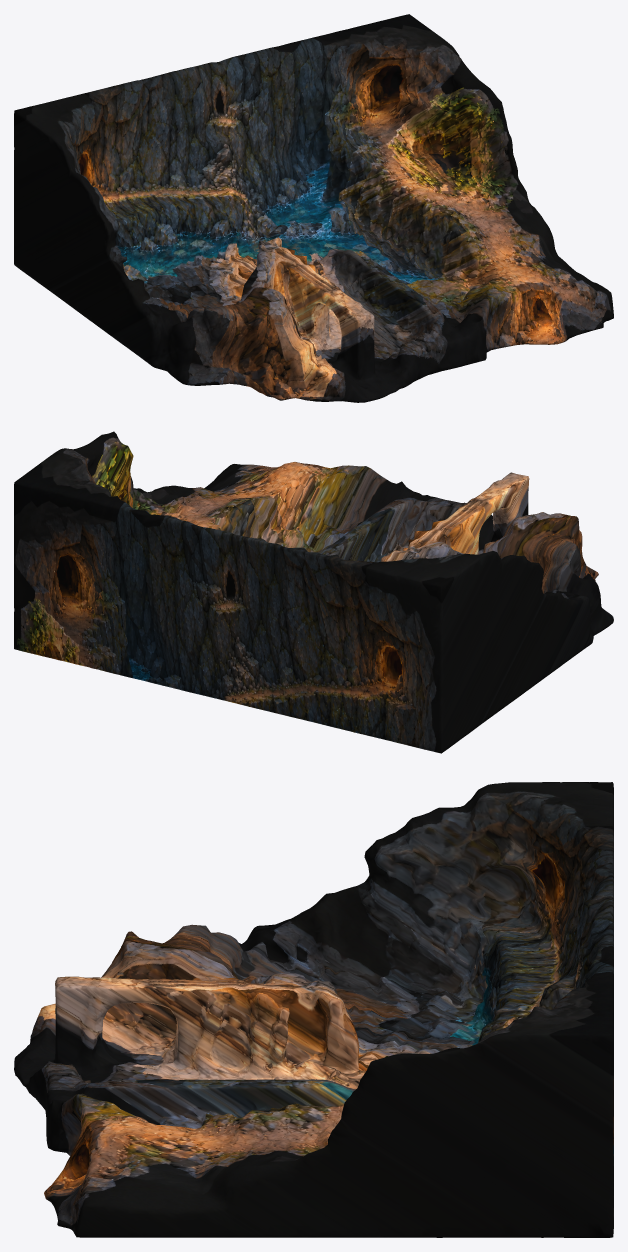
File: lower-ravine-v2.glb
3 renders of one model, top to bottom at view 1: azimuth 30°, elevation 25°; view 2: azimuth 150°, elevation 25°; view 3: azimuth 270°, elevation 25°, orthographic. The views are drawn at different scales.
Visible parts, largest first — view 1: generated_ravine_00; view 2: generated_ravine_00; view 3: generated_ravine_00.
Boxes of the visible parts, bbox=[...] form: generated_ravine_00: bbox=[14, 14, 613, 402]; generated_ravine_00: bbox=[14, 431, 613, 753]; generated_ravine_00: bbox=[14, 782, 613, 1237].
Bounding box in the file's own units: 46.73 × 18 × 46.72.
1 material, 1 textured.
